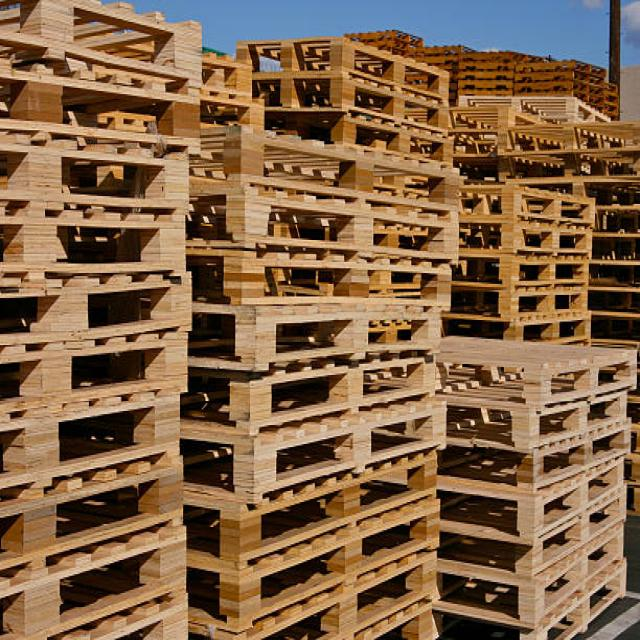Wooden-Pallets: (239, 489, 447, 633), (241, 118, 466, 222), (242, 345, 443, 446), (244, 247, 455, 319), (533, 525, 628, 627), (530, 461, 624, 543), (542, 342, 639, 415)
